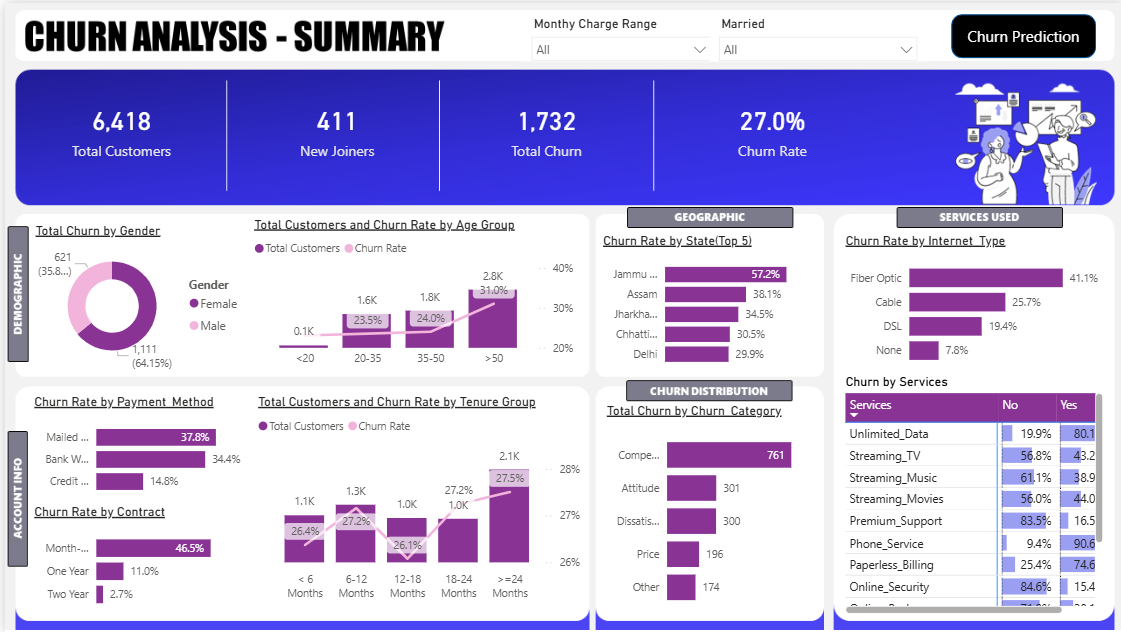

What the dashboard file says about the page in this screenshot:
{"tool":"powerbi","page":{"name":"Summary","canvas":[1280,720],"ordinal":0},"visuals":[{"type":"card","fields":{"Values":["tbl_Measures.Total Customers"]},"box":[42.2,100,181.1,88.9],"z":0},{"type":"card","fields":{"Values":["tbl_Measures.New Joiners"]},"box":[291.1,100,176.7,88.9],"z":1000},{"type":"card","fields":{"Values":["tbl_Measures.Total Churn"]},"box":[532.2,100,172.2,88.9],"z":2000},{"type":"card","fields":{"Values":["tbl_Measures.Churn Rate"]},"box":[783.3,100,188.9,88.9],"z":3000},{"type":"donutChart","fields":{"Category":["product_Churn.Gender"],"Y":["tbl_Measures.Total Churn"]},"box":[30,251.1,251.1,173.3],"z":4000},{"type":"lineStackedColumnComboChart","fields":{"Category":["mapping_AgeGrp.Age Group"],"Y":["tbl_Measures.Total Customers"],"Y2":["tbl_Measures.Churn Rate"]},"box":[280,244.4,374.4,180],"z":5000},{"type":"clusteredBarChart","fields":{"Category":["product_Churn.Payment_Method"],"Y":["tbl_Measures.Churn Rate"]},"box":[28.6,447.1,251.4,125.7],"z":6000},{"type":"clusteredBarChart","fields":{"Category":["product_Churn.Contract"],"Y":["tbl_Measures.Churn Rate"]},"box":[28.9,573.3,251.1,130],"z":7000},{"type":"lineStackedColumnComboChart","fields":{"Category":["mapping_TenureGrp.Tenure Group"],"Y":["tbl_Measures.Total Customers"],"Y2":["tbl_Measures.Churn Rate"]},"box":[284.4,446.7,377.8,243.3],"z":8000},{"type":"clusteredBarChart","title":"Churn Rate by State(Top 5)","fields":{"Category":["product_Churn.State"],"Y":["tbl_Measures.Churn Rate"]},"box":[678.9,262.2,253.3,162.2],"z":9000},{"type":"clusteredBarChart","fields":{"Category":["product_Churn.Churn_Category"],"Y":["tbl_Measures.Total Churn"]},"box":[683.3,456.7,245.6,246.7],"z":10000},{"type":"clusteredBarChart","fields":{"Category":["product_Churn.Internet_Type"],"Y":["tbl_Measures.Churn Rate"]},"box":[955.6,262.2,304.4,162.2],"z":11000},{"type":"pivotTable","title":"Churn by Services","fields":{"Rows":["prod_Services.Services"],"Columns":["prod_Services.Status"],"Values":["Sum(prod_Services.Churn Status)"]},"box":[955.7,424.3,304.3,278.6],"z":12000},{"type":"slicer","fields":{"Values":["product_Churn.Monthy Charge Status"]},"box":[591.3,9.5,225.1,57],"z":13000},{"type":"slicer","fields":{"Values":["product_Churn.Married"]},"box":[805.6,9.5,246.8,57],"z":14000},{"type":"shape","box":[1080.9,12.2,165.5,50.2],"z":15000}]}

Visuals, with their boxes in screenshot pixels (x1, y1, x2, y2), scaled from the page's 1280x720 canvas onto the 1121x632 screenshot:
card - tbl_Measures.Total Customers: 37, 88, 196, 166
card - tbl_Measures.New Joiners: 255, 88, 410, 166
card - tbl_Measures.Total Churn: 466, 88, 617, 166
card - tbl_Measures.Churn Rate: 686, 88, 851, 166
donutChart - product_Churn.Gender x tbl_Measures.Total Churn: 26, 220, 246, 373
lineStackedColumnComboChart - mapping_AgeGrp.Age Group x tbl_Measures.Total Customers: 245, 215, 573, 373
clusteredBarChart - product_Churn.Payment_Method x tbl_Measures.Churn Rate: 25, 392, 245, 503
clusteredBarChart - product_Churn.Contract x tbl_Measures.Churn Rate: 25, 503, 245, 617
lineStackedColumnComboChart - mapping_TenureGrp.Tenure Group x tbl_Measures.Total Customers: 249, 392, 580, 606
"Churn Rate by State(Top 5)" clusteredBarChart: 595, 230, 816, 373
clusteredBarChart - product_Churn.Churn_Category x tbl_Measures.Total Churn: 598, 401, 814, 617
clusteredBarChart - product_Churn.Internet_Type x tbl_Measures.Churn Rate: 837, 230, 1103, 373
"Churn by Services" pivotTable: 837, 372, 1103, 617
slicer - product_Churn.Monthy Charge Status: 518, 8, 715, 58
slicer - product_Churn.Married: 706, 8, 922, 58
shape: 947, 11, 1092, 55
